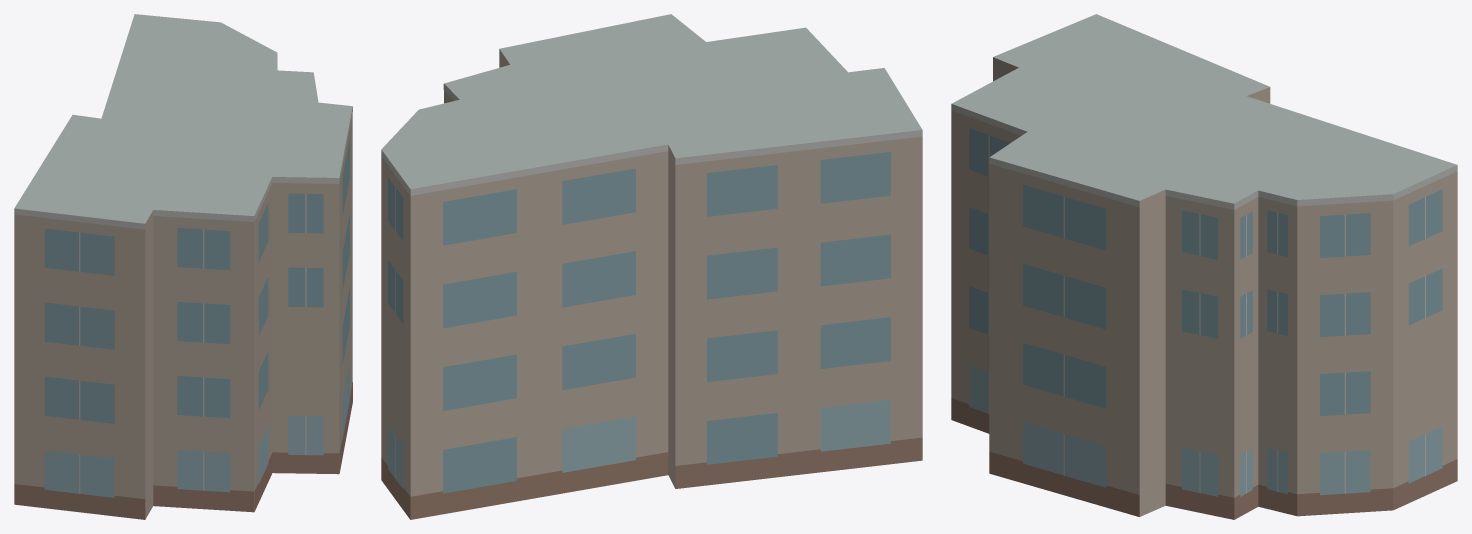
Rendered from survey-upis-32969351.glb.
The picture shows the model from 3 angles, left to right: view 1: azimuth 30°, elevation 25°; view 2: azimuth 150°, elevation 25°; view 3: azimuth 270°, elevation 25°; orthographic projection. The views are drawn at different scales.
Parts seen in each view (by area): view 1: survey-upis-32969351.tmp; view 2: survey-upis-32969351.tmp; view 3: survey-upis-32969351.tmp.
Part boxes in pixels (box(x1,y1,x2,y2)): survey-upis-32969351.tmp: box(14, 14, 352, 519); survey-upis-32969351.tmp: box(381, 14, 922, 519); survey-upis-32969351.tmp: box(951, 14, 1457, 519).
Bounding box in the file's own units: 15.71 × 12.2 × 17.71.
